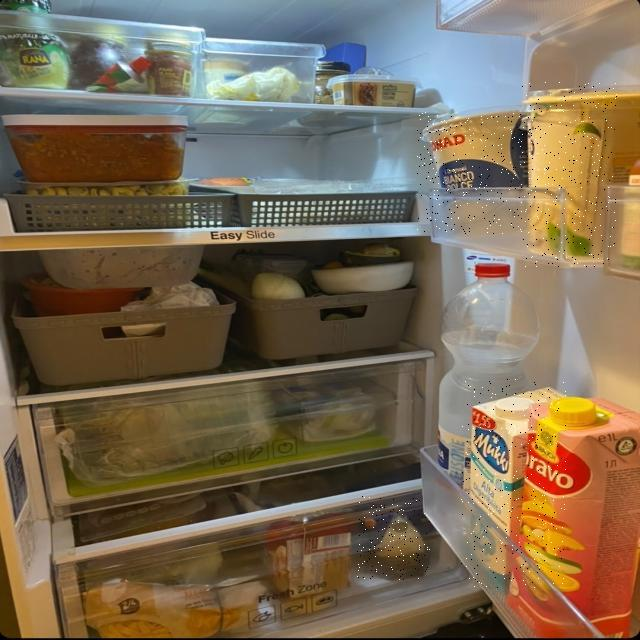cheese: (357, 496, 430, 580)
milk: (461, 378, 566, 588)
yoghurt: (522, 82, 617, 267), (417, 112, 534, 234)
